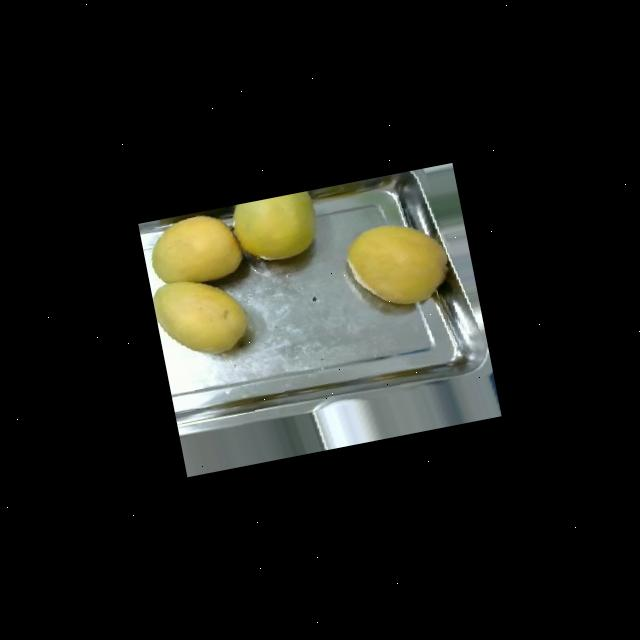Mango: (342, 214, 456, 314), (152, 269, 252, 363), (144, 208, 246, 290), (230, 190, 324, 267)
